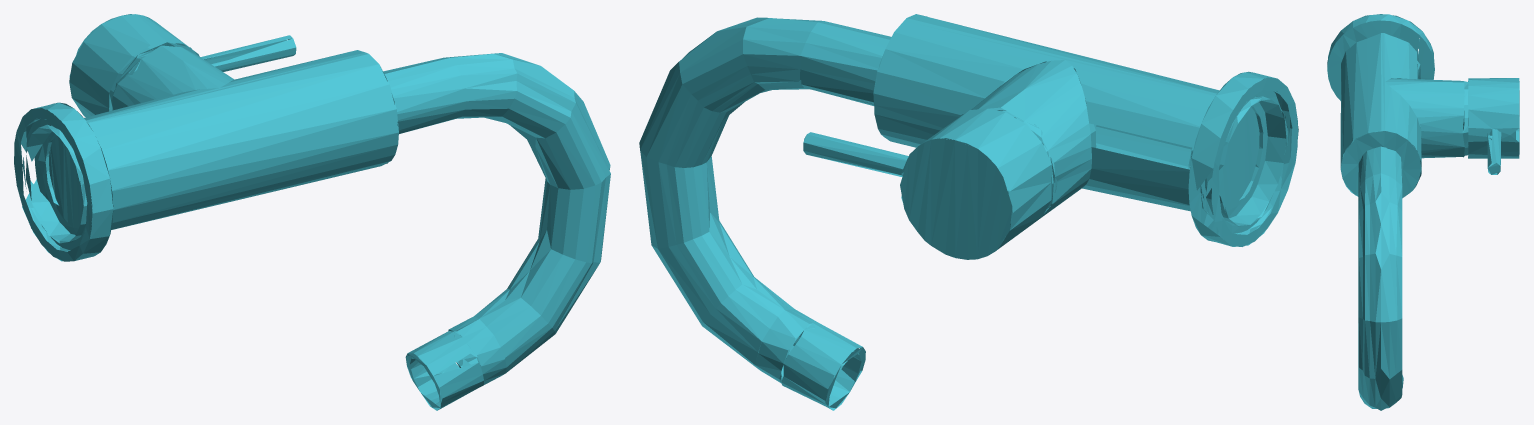
3 renders of one model, left to right at view 1: azimuth 30°, elevation 25°; view 2: azimuth 150°, elevation 25°; view 3: azimuth 270°, elevation 25°, orthographic. The views are drawn at different scales.
Visible parts, largest first — view 1: Renderer Node; view 2: Renderer Node; view 3: Renderer Node.
Boxes of the visible parts, x1,y1,x2,y2 form: Renderer Node: (14,14,610,410); Renderer Node: (639,14,1298,410); Renderer Node: (1327,14,1519,410).
Size of the model in its own units: 0.7812 by 0.5218 by 0.3454.
Materials: 1 (1 with a texture image).
